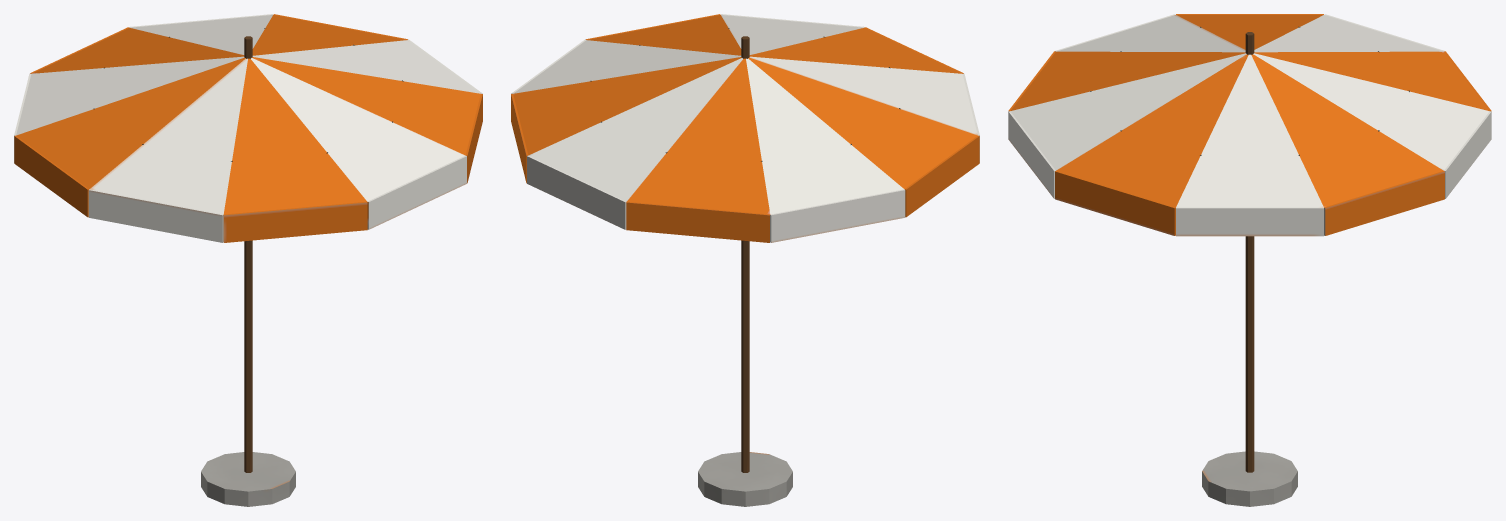
File: slunecnik_36118142.glb
3 renders of one model, left to right at view 1: azimuth 30°, elevation 25°; view 2: azimuth 150°, elevation 25°; view 3: azimuth 270°, elevation 25°, orthographic.
Parts seen in each view (by area): view 1: dum; view 2: dum; view 3: dum.
Boxes of the visible parts, x1=… form: dum: x1=14, y1=14, x2=482, y2=506; dum: x1=511, y1=14, x2=979, y2=506; dum: x1=1008, y1=14, x2=1491, y2=506.
Size of the model in its own units: 2.68 by 2.91 by 2.82.
Materials: 1 (1 with a texture image).
